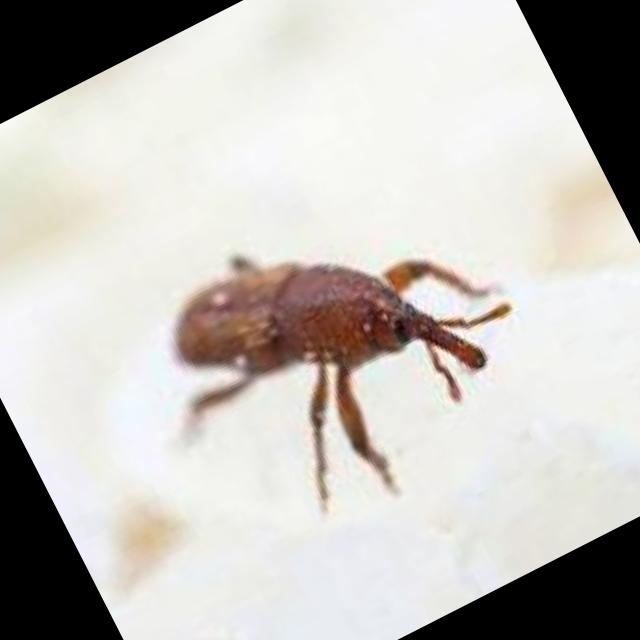rice-bug: (138, 180, 512, 533)
